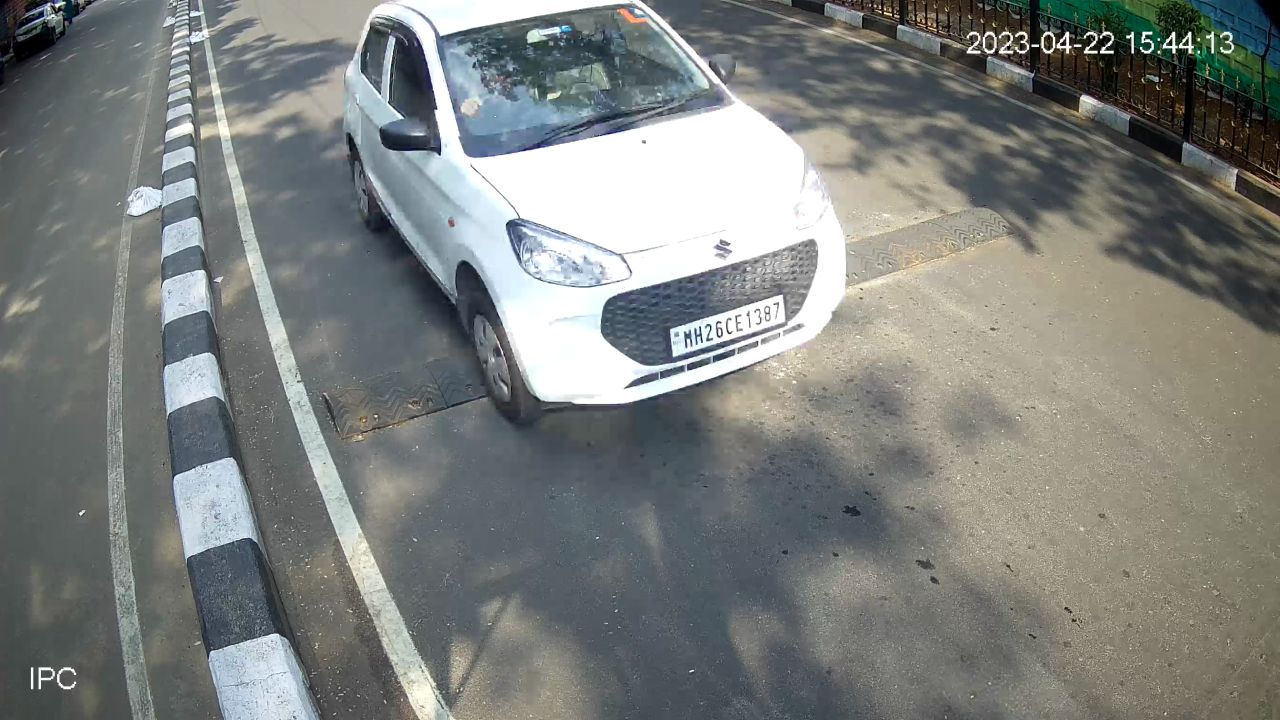license_plate: (666, 290, 790, 365)
